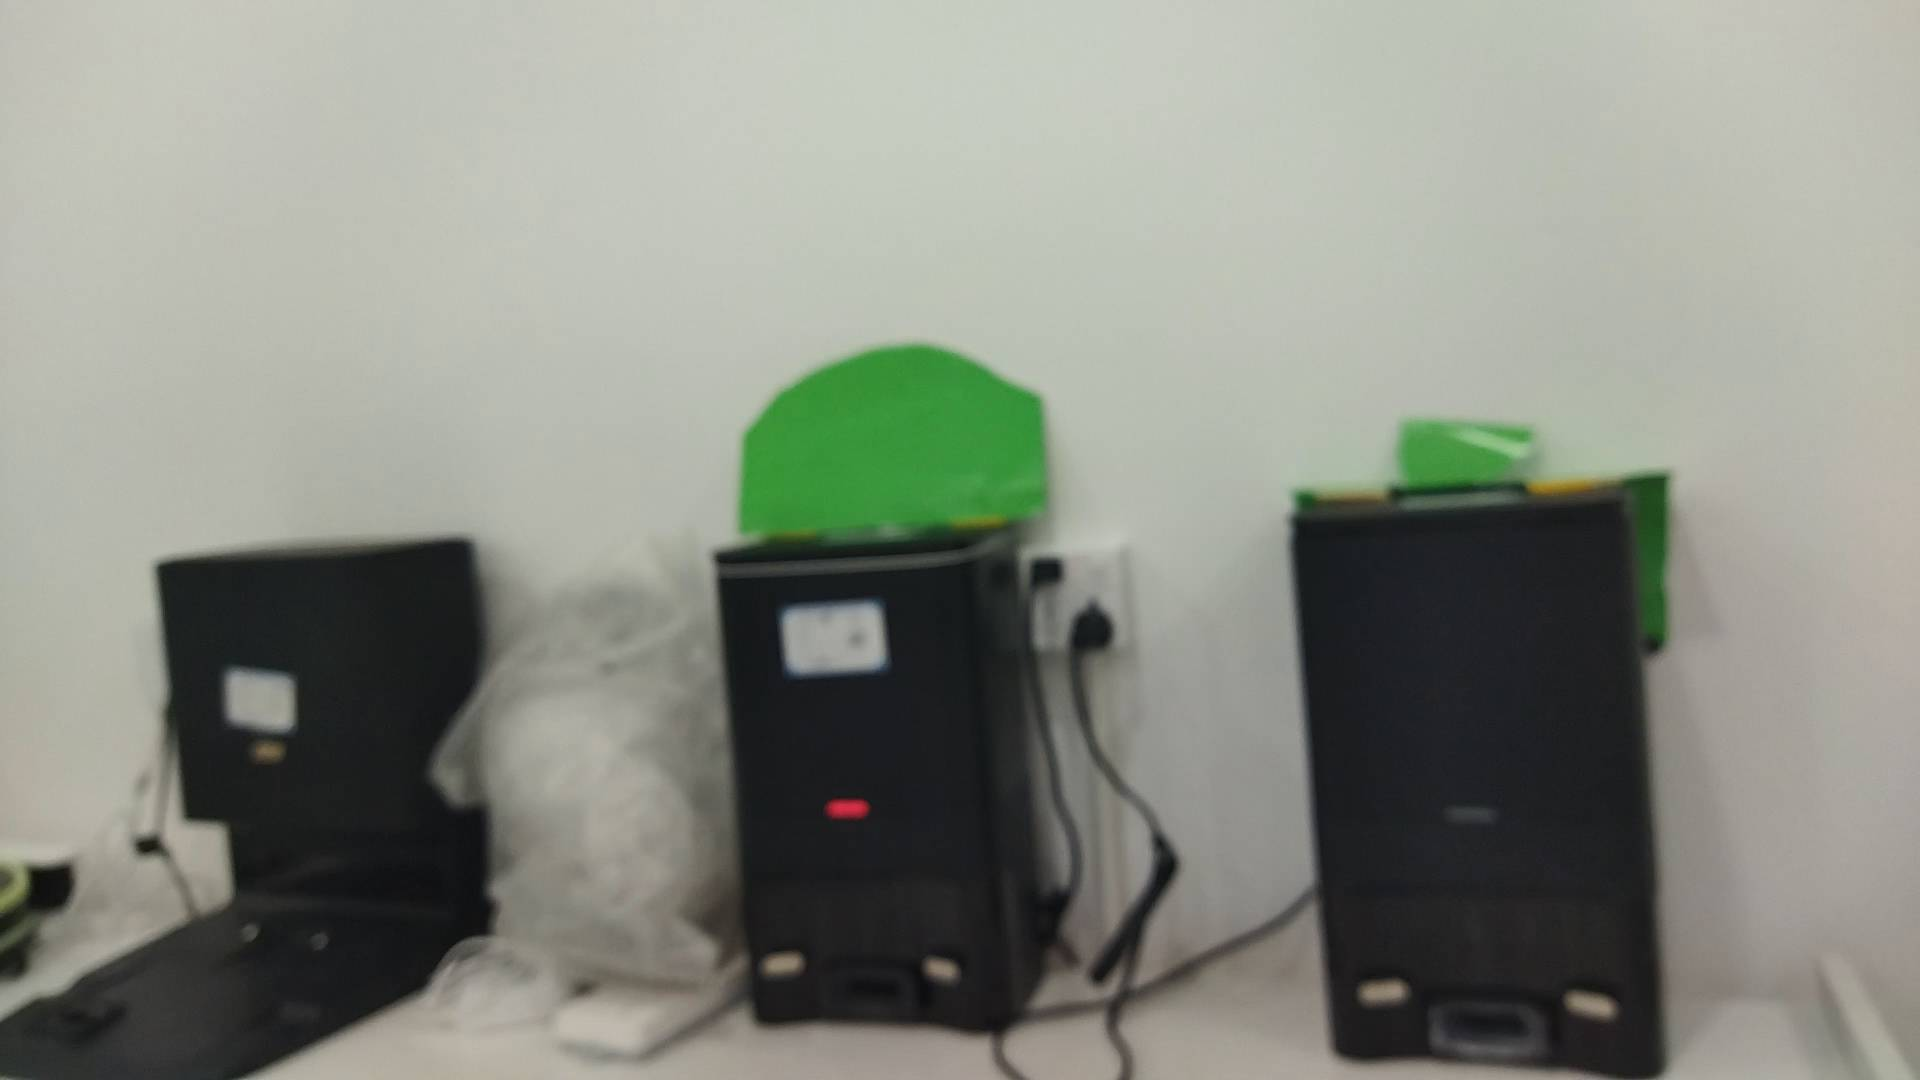dust collecting barrel: (1, 534, 480, 1080), (1287, 484, 1665, 1077), (713, 517, 1043, 1031)
